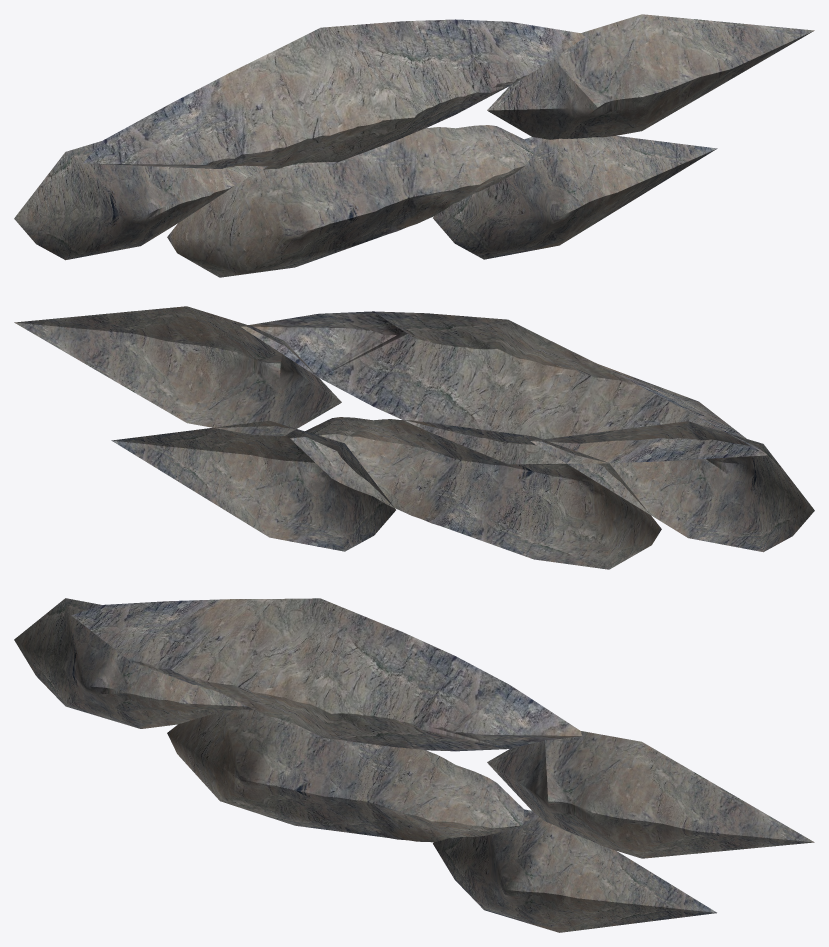
Rendered from tunisia_mountains.glb.
3 views of the same model, one above another, from view 1: azimuth 30°, elevation 25°; view 2: azimuth 150°, elevation 25°; view 3: azimuth 330°, elevation 25° (orthographic).
Size of the model in its own units: 30159 by 9938 by 2704.
1 material, 1 textured.
